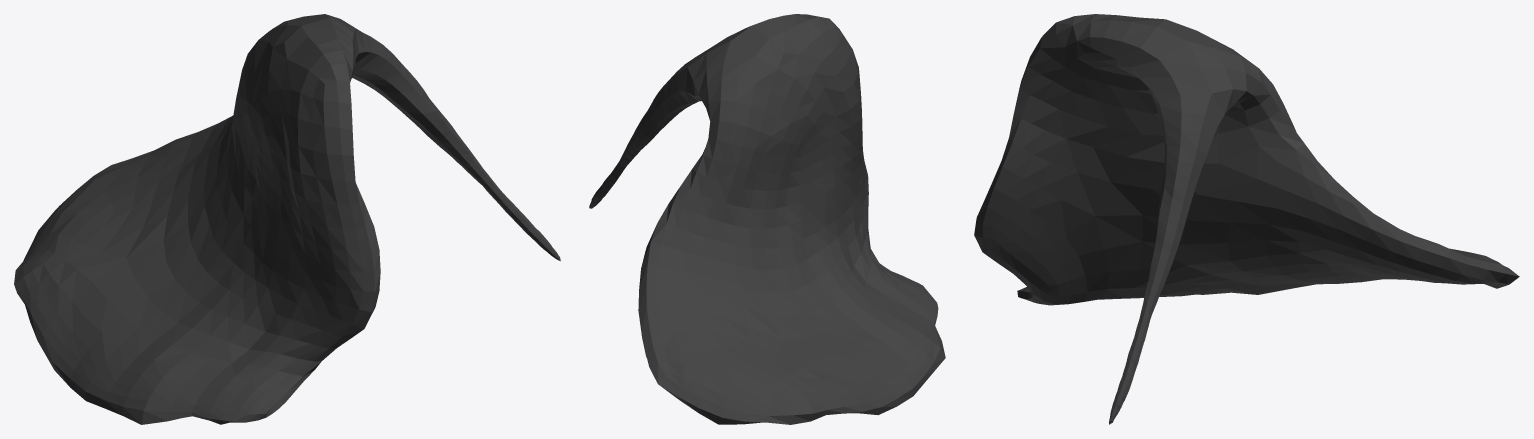
Rendered from InternObturator.glb.
The picture shows the model from 3 angles, left to right: view 1: azimuth 30°, elevation 25°; view 2: azimuth 150°, elevation 25°; view 3: azimuth 270°, elevation 25°; orthographic projection. The views are drawn at different scales.
Parts seen in each view (by area): view 1: InternObturator; view 2: InternObturator; view 3: InternObturator.
Part boxes in pixels (x1,y1,x2,y2): InternObturator: (14,14,560,424); InternObturator: (589,14,945,424); InternObturator: (974,14,1519,424).
Size of the model in its own units: 2.37 by 1.89 by 2.52.
1 material, 1 textured.
